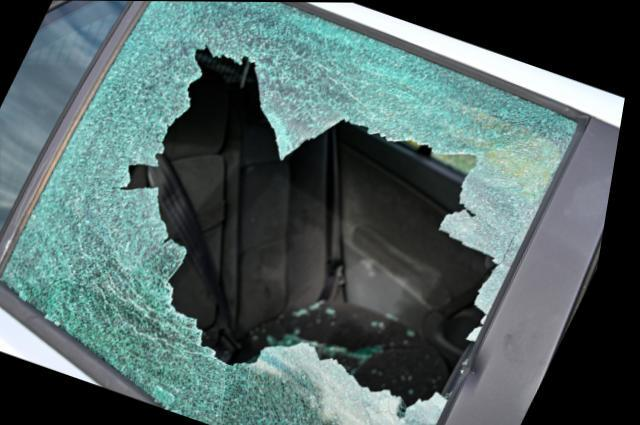glass shatter: (8, 1, 582, 425)
